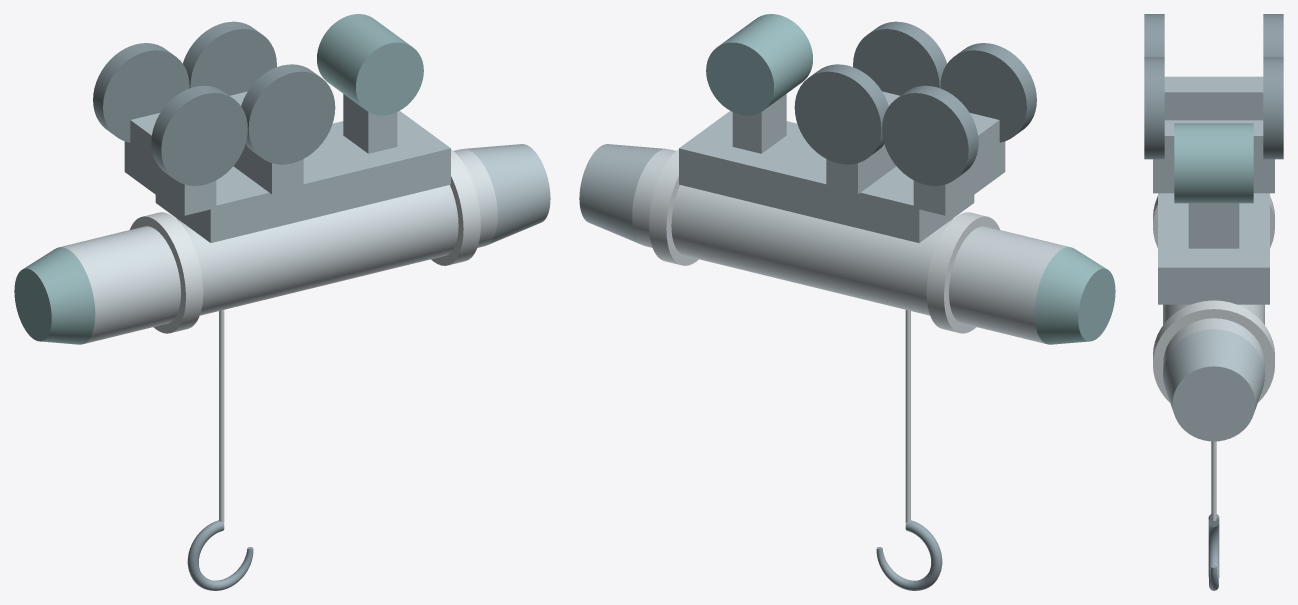
3 renders of one model, left to right at view 1: azimuth 30°, elevation 25°; view 2: azimuth 150°, elevation 25°; view 3: azimuth 270°, elevation 25°, orthographic.
Parts seen in each view (by area): view 1: 葫芦_卷筒外壳, 小车_行走轮 (×4), 小车_悬挂座, 小车_行走传动, 葫芦_电机端罩, 葫芦_外壳环箍 (×2), 小车_侧板连接座 (×2), 葫芦_减速端盖, 小车_传动托座, 吊具_吊钩, 吊具_示意钢丝绳; view 2: 葫芦_卷筒外壳, 小车_行走轮 (×4), 小车_悬挂座, 小车_行走传动, 葫芦_电机端罩, 葫芦_外壳环箍 (×2), 小车_侧板连接座 (×2), 葫芦_减速端盖, 小车_传动托座, 吊具_吊钩, 吊具_示意钢丝绳; view 3: 小车_悬挂座, 葫芦_减速端盖, 小车_侧板连接座 (×2), 小车_行走传动, 小车_行走轮 (×4), 葫芦_外壳环箍 (×2), 小车_传动托座, 葫芦_卷筒外壳, 吊具_吊钩, 吊具_示意钢丝绳.
Boxes of the visible parts, x1,y1,x2,y2 form: 葫芦_卷筒外壳: (61,149,497,343); 小车_行走轮 (×4): (93,21,335,185); 小车_悬挂座: (155,111,450,242); 小车_行走传动: (317,14,423,115); 葫芦_电机端罩: (14,247,95,344); 葫芦_外壳环箍 (×2): (130,149,480,333); 小车_侧板连接座 (×2): (124,91,303,215); 葫芦_减速端盖: (464,144,550,244); 小车_传动托座: (343,94,397,153); 吊具_吊钩: (187,520,253,590); 吊具_示意钢丝绳: (219,310,224,523); 葫芦_卷筒外壳: (632,149,1068,343); 小车_行走轮 (×4): (794,21,1036,185); 小车_悬挂座: (679,111,974,242); 小车_行走传动: (706,14,812,115); 葫芦_电机端罩: (1034,247,1115,344); 葫芦_外壳环箍 (×2): (649,149,999,333); 小车_侧板连接座 (×2): (826,91,1005,215); 葫芦_减速端盖: (579,144,665,244); 小车_传动托座: (732,94,786,153); 吊具_吊钩: (876,520,942,590); 吊具_示意钢丝绳: (905,310,910,523); 小车_悬挂座: (1158,193,1269,304); 葫芦_减速端盖: (1163,329,1264,441); 小车_侧板连接座 (×2): (1153,76,1274,193); 小车_行走传动: (1174,123,1253,203); 小车_行走轮 (×4): (1144,14,1283,159); 葫芦_外壳环箍 (×2): (1153,196,1274,402); 小车_传动托座: (1188,203,1239,248); 葫芦_卷筒外壳: (1163,304,1264,373); 吊具_吊钩: (1208,514,1219,590); 吊具_示意钢丝绳: (1211,441,1216,520).
Bounding box in the file's own units: 2.07 × 2.12 × 0.492.
